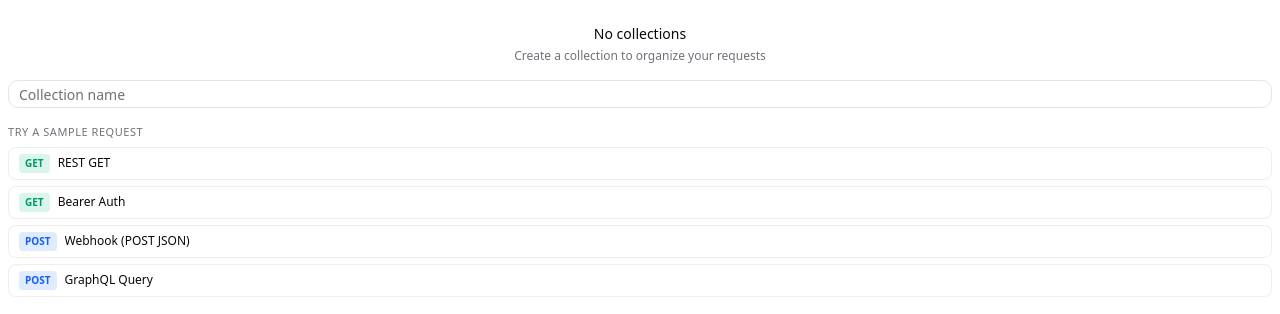
Test case: CollectionTree › creates a collection when Enter is pressed with a non-empty name
In the field with test id "new-collection-name-input": (640, 94) [8, 80, 1272, 108], type "My API"
Then press Enter
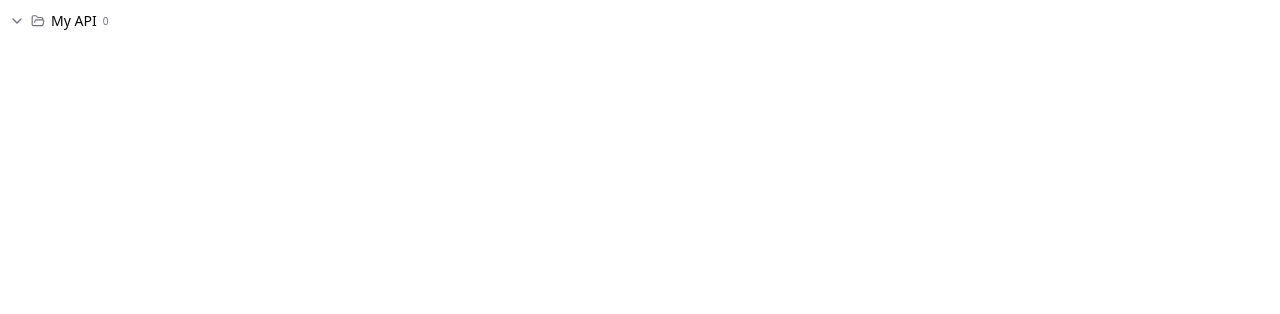
expect the text "My API" is shown: met, box [51, 11, 97, 31]
